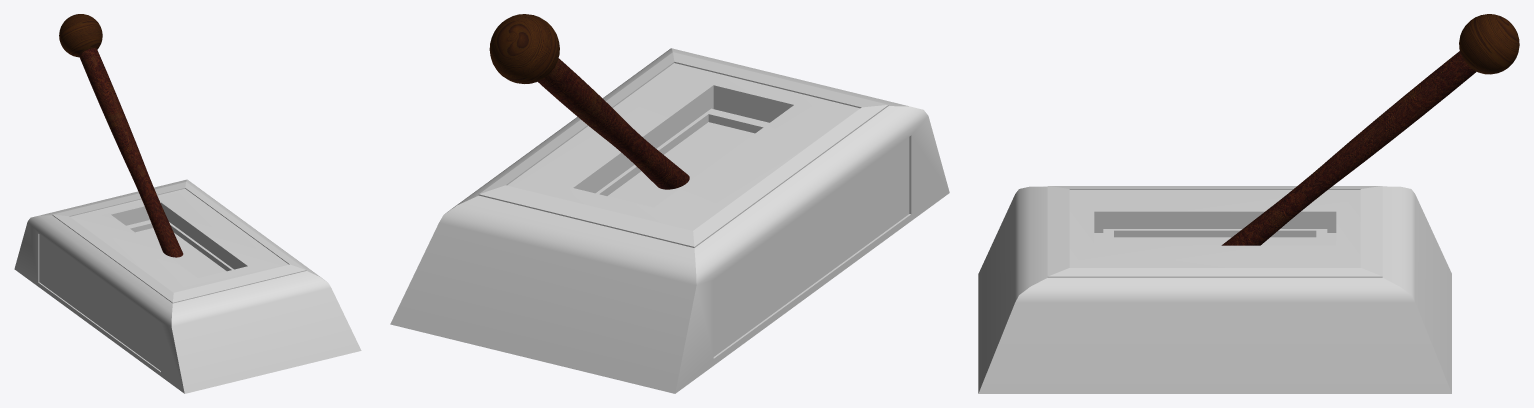
Rendered from levierv2.fbx.
3 views of the same model, side by side, from view 1: azimuth 30°, elevation 25°; view 2: azimuth 150°, elevation 25°; view 3: azimuth 270°, elevation 25° (orthographic). The views are drawn at different scales.
Parts seen in each view (by area): view 1: Cube.002, Cylinder.001; view 2: Cube.002, Cylinder.001; view 3: Cube.002, Cylinder.001.
Part boxes in pixels (x1=…): Cube.002: x1=14, y1=179, x2=361, y2=393; Cylinder.001: x1=59, y1=14, x2=183, y2=257; Cube.002: x1=390, y1=48, x2=949, y2=393; Cylinder.001: x1=489, y1=14, x2=689, y2=189; Cube.002: x1=978, y1=186, x2=1451, y2=393; Cylinder.001: x1=1221, y1=14, x2=1519, y2=245.
Bounding box in the file's own units: 78.43 × 94.94 × 150.
Materials: 3 (2 with a texture image).
